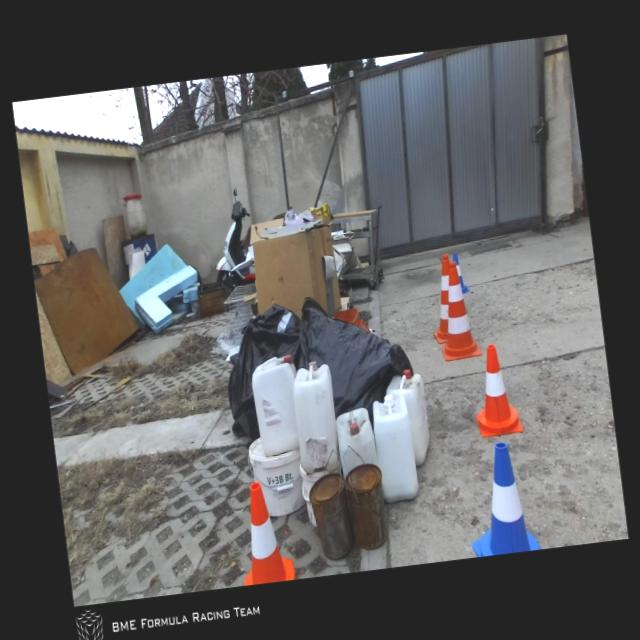blue_cone: (460, 438, 540, 557), (450, 252, 470, 293)
large_orange_cone: (431, 260, 482, 361), (424, 253, 460, 345)
orange_cone: (231, 478, 296, 585), (467, 342, 523, 436)
